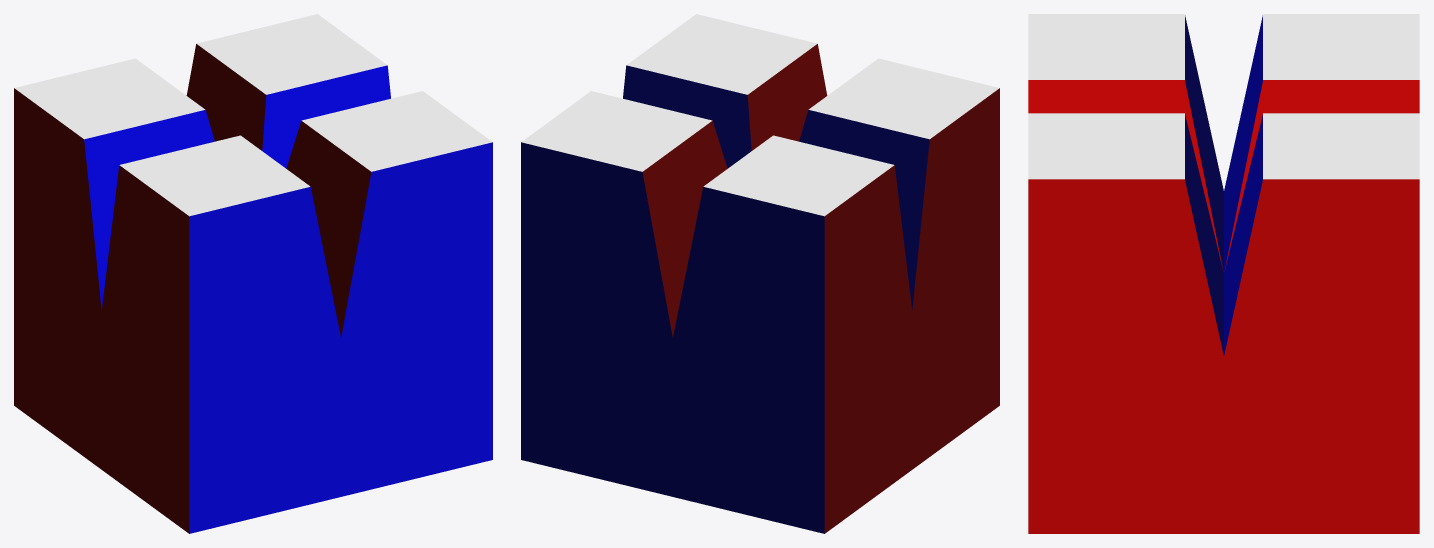
File: labeled_CAD.glb
3 renders of one model, left to right at view 1: azimuth 30°, elevation 25°; view 2: azimuth 150°, elevation 25°; view 3: azimuth 270°, elevation 25°, orthographic. The views are drawn at different scales.
Bounding box in the file's own units: 10 × 10 × 10.
1 material, 1 textured.
